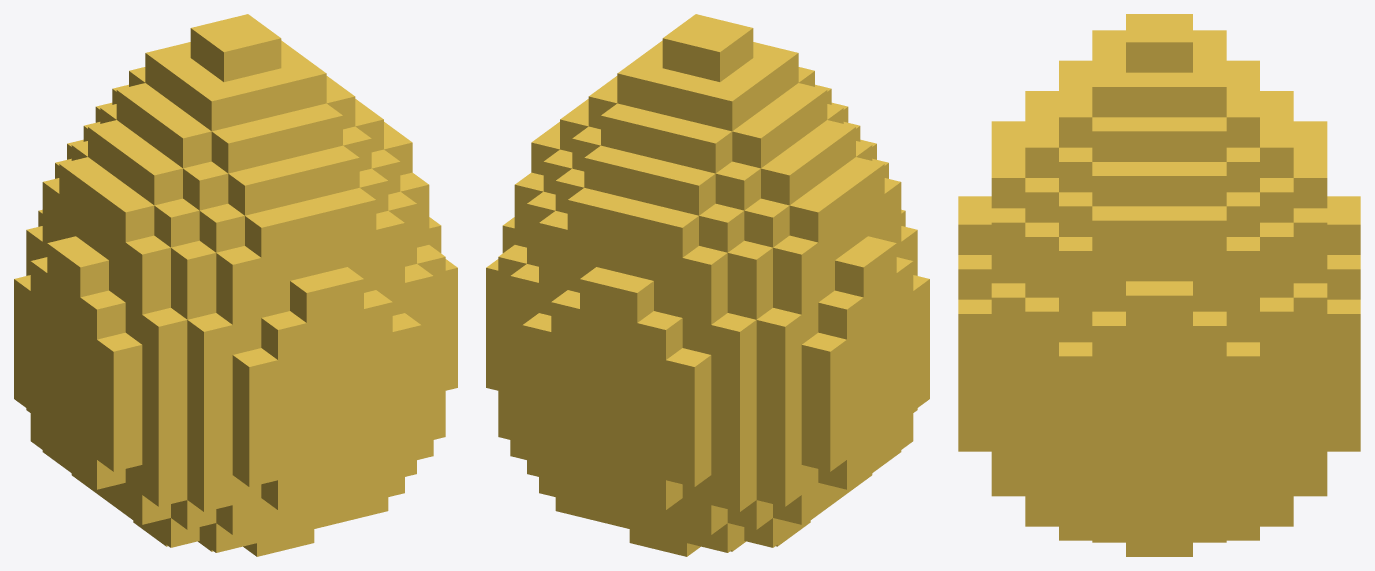
Rendered from Golden_Egg.glb.
3 views of the same model, side by side, from view 1: azimuth 30°, elevation 25°; view 2: azimuth 150°, elevation 25°; view 3: azimuth 270°, elevation 25° (orthographic).
Visible parts, largest first — view 1: Cube_copy_copy_copy_copy_copy_copy_copy_copy_copy_copy_copy_ (×71), Cube_copy_1, Cube_copy_copy_copy_6, Cube_copy_copy_copy, Cube_copy_copy_copy_copy_copy_copy_copy_copy_copy, Cube_copy_copy_copy_9, Cube_copy_copy_copy_copy_copy_5, Cube_copy_4, Cube_copy_copy_copy_2, Cube_copy_copy_copy_copy_copy_copy_copy_copy_1, Cube_copy_copy_copy_copy_copy_8, Cube_copy_copy_copy_copy_copy_copy_6 (+59 smaller); view 2: Cube_copy_copy_copy_copy_copy_copy_copy_copy_copy_copy_copy_ (×71), Cube, Cube_copy_copy_copy_copy_copy_15, Cube_copy_copy_1, Cube_copy_copy_copy_copy_copy_17, Cube_copy_copy_copy_copy_copy_copy_copy_25, Cube_copy_copy_copy_20, Cube_copy_copy_4, Cube_copy_copy_copy_copy_copy_copy_copy_21, Cube_copy_copy_copy_copy_copy_copy_24, Cube_copy_copy_copy_copy_copy_copy_21, Cube_copy_copy_copy_copy_copy_copy_copy_copy_22 (+59 smaller); view 3: Cube_copy_copy_copy_copy_copy_copy_copy_copy_copy_copy_copy_ (×99), Cube_copy_copy_copy_copy_copy_copy_12, Cube_copy_copy_copy_copy_copy_copy_copy_copy_copy_copy_2, Cube_copy_copy_copy_copy_6, Cube_copy_5, Cube_copy_copy_12, Cube_copy_copy_copy_copy_copy_copy_19, Cube_copy_copy_copy_copy_18, Cube_copy_copy_8, Cube_copy_copy_copy_copy_4, Cube_copy_copy_copy_13, Cube_copy_copy_copy_copy_9 (+60 smaller).
Part boxes in pixels (x1,y1,x2,y2): Cube_copy_copy_copy_copy_copy_copy_copy_copy_copy_copy_copy_ (×71): (26, 21, 445, 552); Cube_copy_1: (80, 290, 125, 339); Cube_copy_copy_copy_6: (290, 274, 335, 322); Cube_copy_copy_copy: (63, 248, 108, 297); Cube_copy_copy_copy_copy_copy_copy_copy_copy_copy: (125, 235, 170, 284); Cube_copy_copy_copy_9: (232, 348, 277, 396); Cube_copy_copy_copy_copy_copy_5: (142, 308, 187, 356); Cube_copy_4: (261, 311, 306, 359); Cube_copy_copy_copy_2: (97, 332, 142, 381); Cube_copy_copy_copy_copy_copy_copy_copy_copy_1: (125, 273, 170, 314); Cube_copy_copy_copy_copy_copy_8: (232, 415, 277, 456); Cube_copy_copy_copy_copy_copy_copy_6: (142, 405, 187, 446); Cube_copy_copy_copy_copy_copy_copy_copy_copy_copy_copy_copy_ (×71): (510, 21, 884, 552); Cube: (818, 290, 863, 339); Cube_copy_copy_copy_copy_copy_15: (608, 274, 653, 322); Cube_copy_copy_1: (835, 248, 880, 297); Cube_copy_copy_copy_copy_copy_17: (666, 348, 711, 396); Cube_copy_copy_copy_copy_copy_copy_copy_25: (711, 313, 756, 361); Cube_copy_copy_copy_20: (637, 311, 682, 359); Cube_copy_copy_4: (801, 332, 846, 381); Cube_copy_copy_copy_copy_copy_copy_copy_21: (666, 415, 711, 456); Cube_copy_copy_copy_copy_copy_copy_24: (711, 350, 756, 391); Cube_copy_copy_copy_copy_copy_copy_21: (666, 385, 711, 426); Cube_copy_copy_copy_copy_copy_copy_copy_copy_22: (711, 410, 756, 451); Cube_copy_copy_copy_copy_copy_copy_copy_copy_copy_copy_copy_ (×99): (991, 14, 1327, 556); Cube_copy_copy_copy_copy_copy_copy_12: (991, 283, 1025, 327); Cube_copy_copy_copy_copy_copy_copy_copy_copy_copy_copy_2: (991, 208, 1025, 252); Cube_copy_copy_copy_copy_6: (958, 299, 991, 344); Cube_copy_5: (1092, 311, 1125, 356); Cube_copy_copy_12: (1193, 311, 1226, 356); Cube_copy_copy_copy_copy_copy_copy_19: (1260, 297, 1293, 342); Cube_copy_copy_copy_copy_18: (1327, 299, 1360, 344); Cube_copy_copy_8: (958, 255, 991, 299); Cube_copy_copy_copy_copy_4: (958, 210, 991, 254); Cube_copy_copy_copy_13: (1126, 281, 1159, 325); Cube_copy_copy_copy_copy_9: (1159, 281, 1192, 325).
Size of the model in its own units: 1.2 by 1.6 by 1.2.
